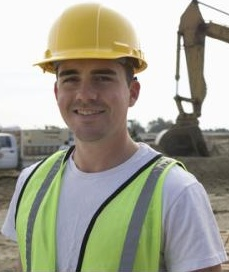hard-hat: (31, 1, 147, 72)
vest: (0, 139, 228, 271)
